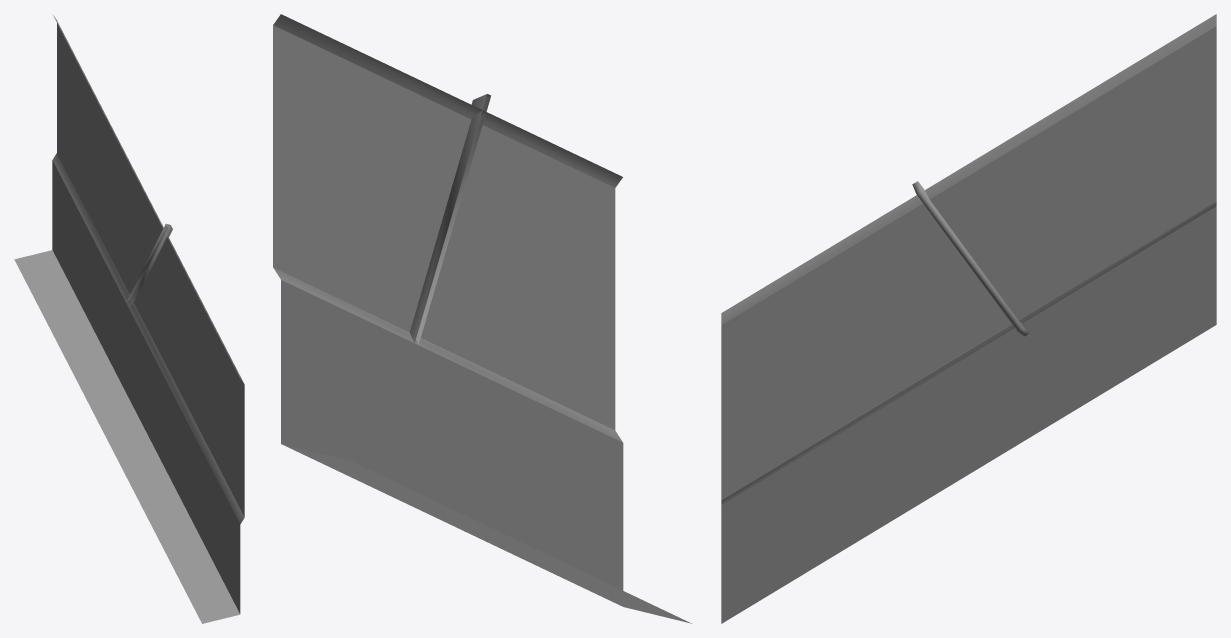
The model's file is SW_ENV_Escalator_5Step_Connector_Endcap.fbx.
3 views of the same model, side by side, from view 1: azimuth 30°, elevation 25°; view 2: azimuth 150°, elevation 25°; view 3: azimuth 270°, elevation 25° (orthographic). The views are drawn at different scales.
Visible parts, largest first — view 1: SW_ENV_Escalator_5Step_Connector_Endcap; view 2: SW_ENV_Escalator_5Step_Connector_Endcap; view 3: SW_ENV_Escalator_5Step_Connector_Endcap.
Part boxes in pixels (bbox=[...]): SW_ENV_Escalator_5Step_Connector_Endcap: bbox=[14, 15, 244, 623]; SW_ENV_Escalator_5Step_Connector_Endcap: bbox=[273, 14, 691, 623]; SW_ENV_Escalator_5Step_Connector_Endcap: bbox=[721, 14, 1216, 623].
Bounding box in the file's own units: 0.2063 × 2.04 × 1.5.
